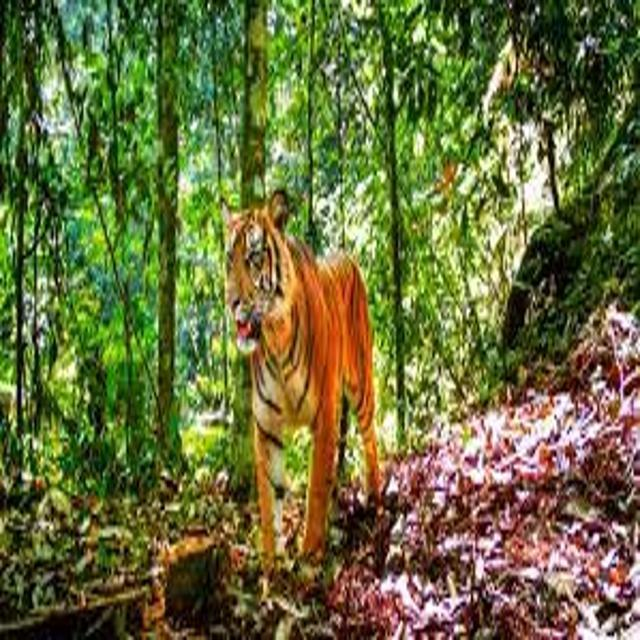Tiger: (194, 183, 421, 555)
